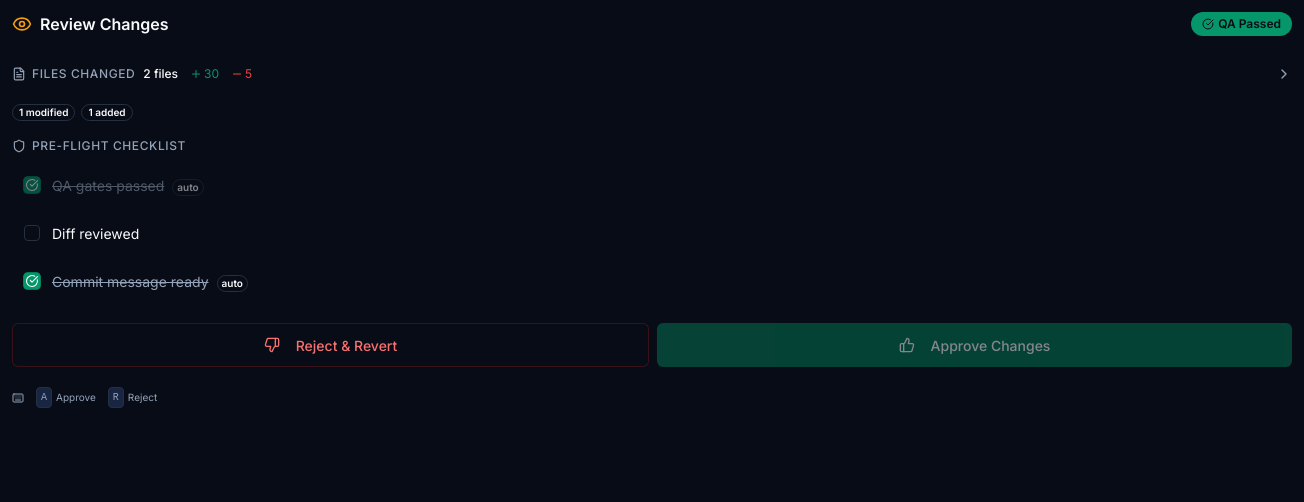
Test: ApprovalPanel › should expand file list when clicking the file summary
The width and height of the screenshot is (1304, 502).
Note: Click the files changed header to expand
Click the heading "Files Changed".
click(74, 74)  # box [12,65,135,83]
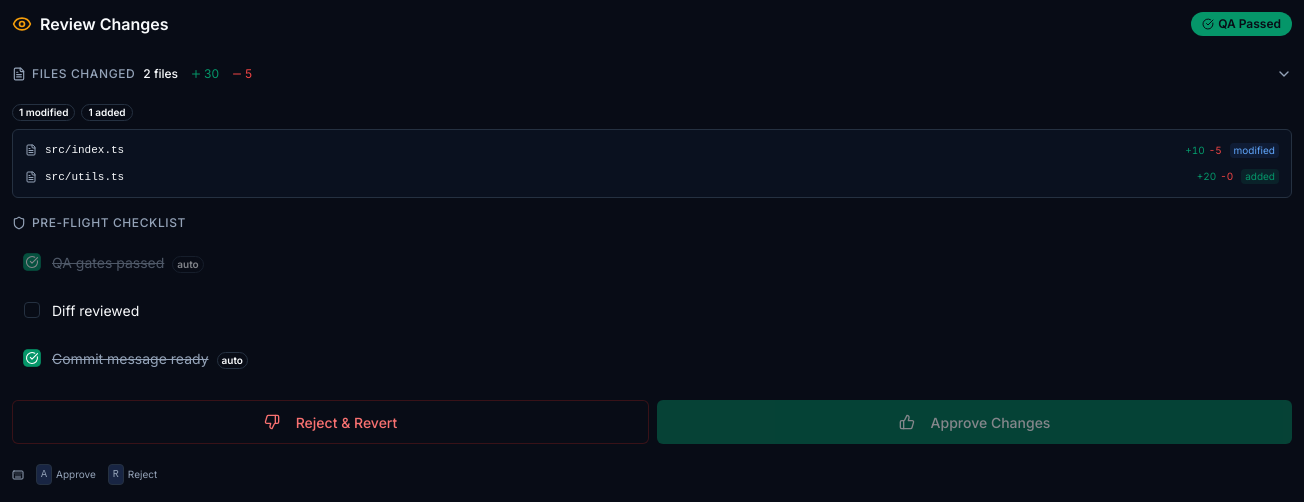
Expected: the text "src/index.ts" is shown, [45,144,124,156]
Expected: the text "src/utils.ts" is shown, [45,170,124,182]
